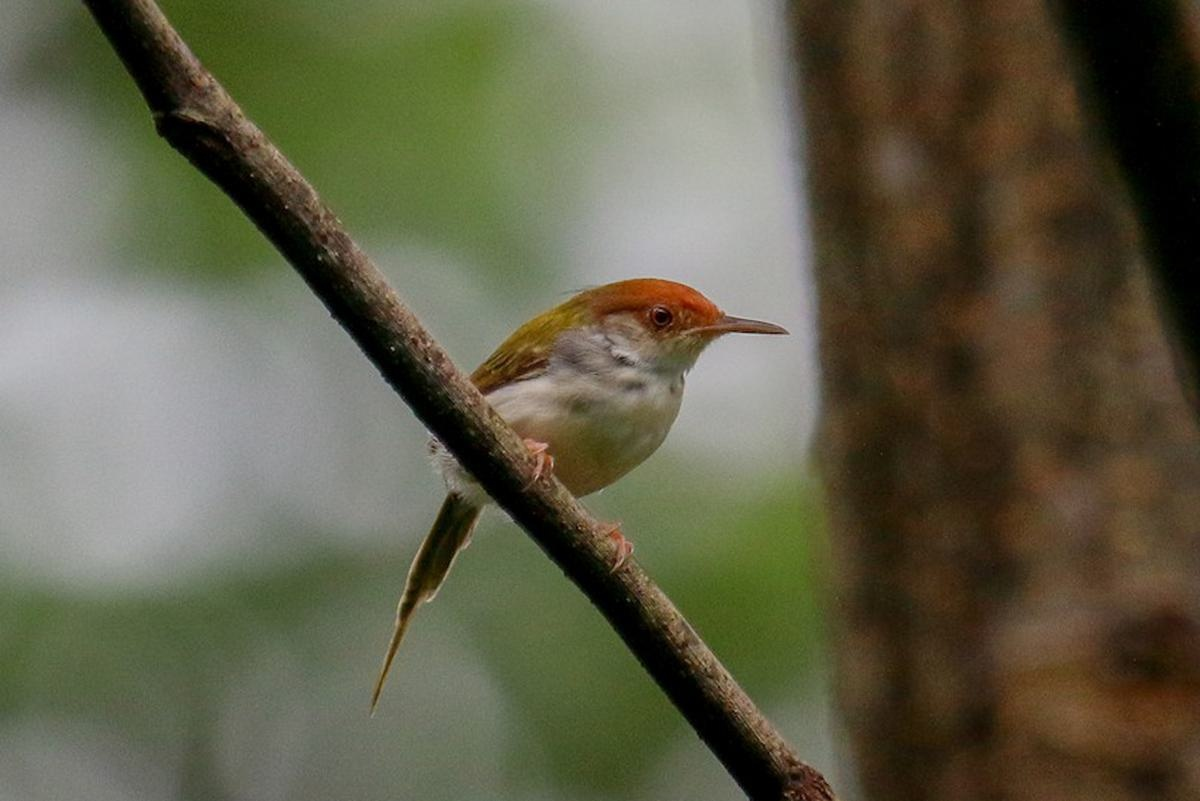tailorbird: (334, 232, 803, 715)
